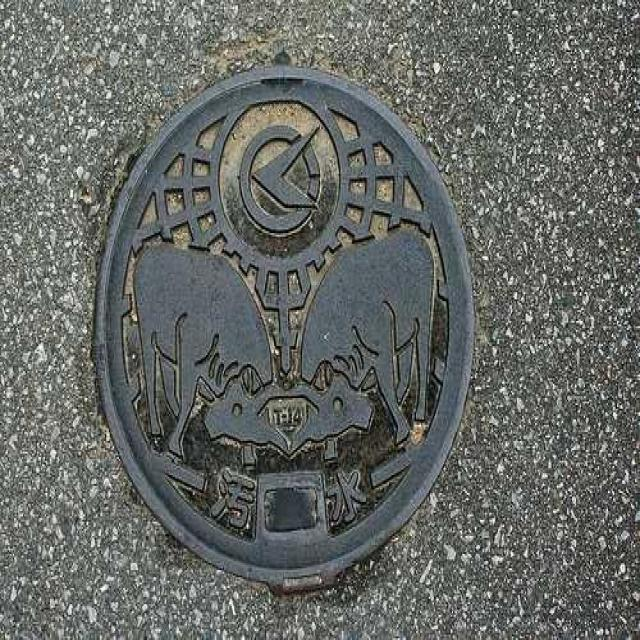manhole: (92, 66, 476, 601)
